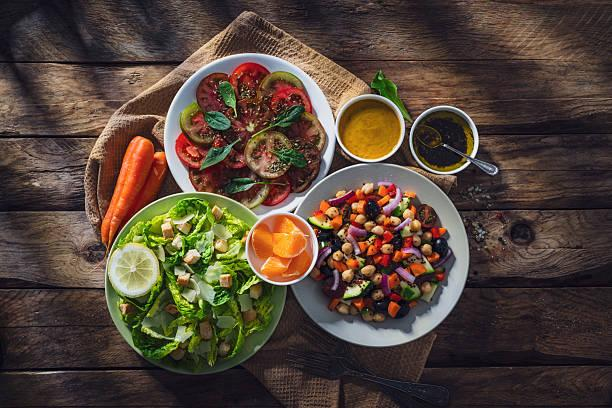Braised Crucian Carp: (292, 162, 470, 344), (105, 191, 283, 372), (163, 52, 330, 214)
